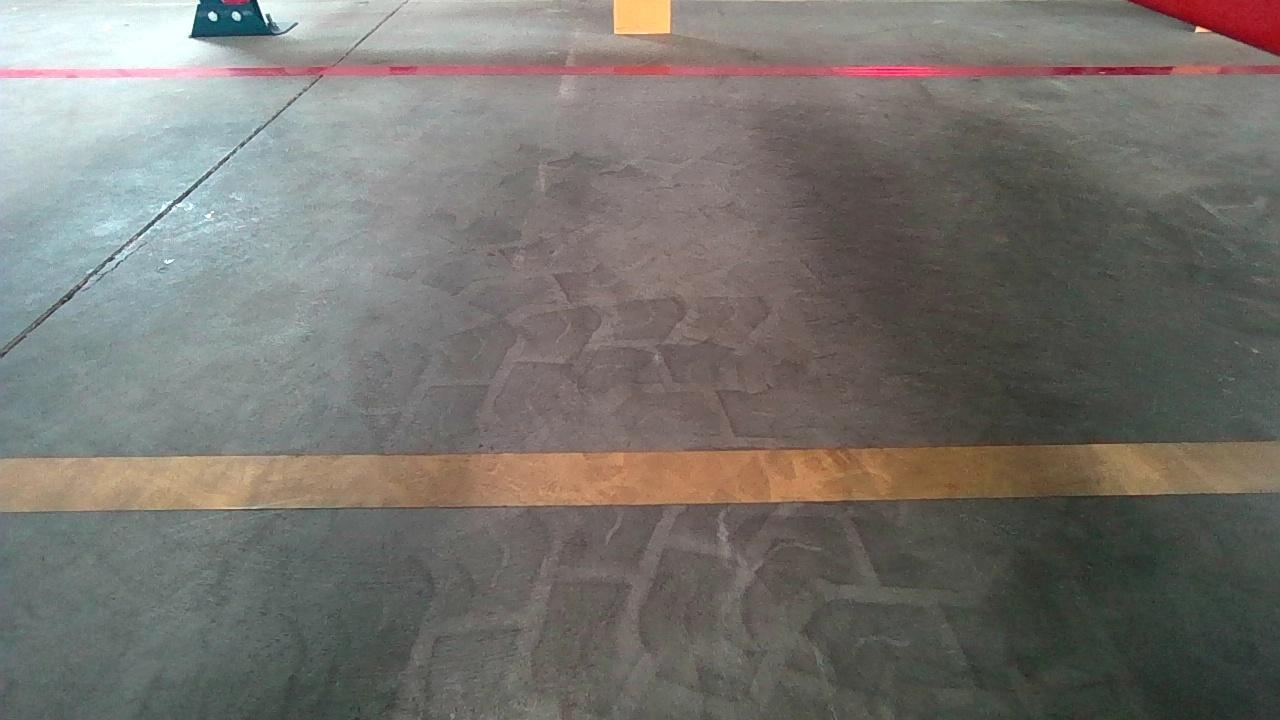orange_strip: (612, 0, 673, 35)
red_line: (24, 60, 1256, 85)
